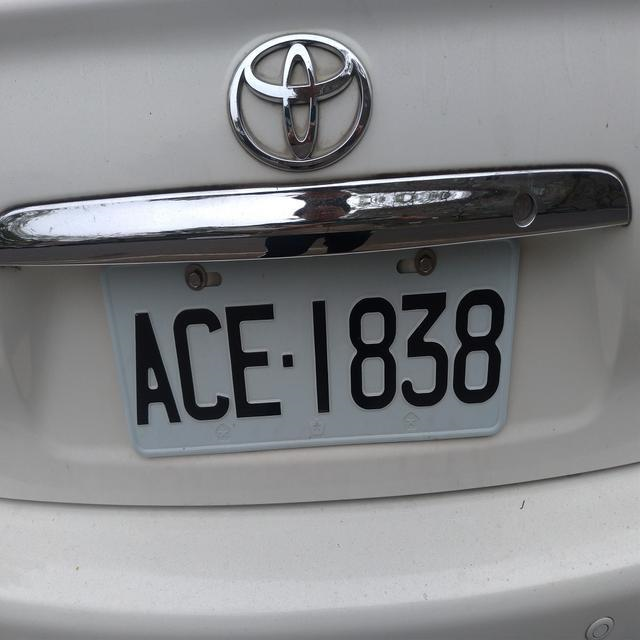license: (112, 267, 507, 434)
